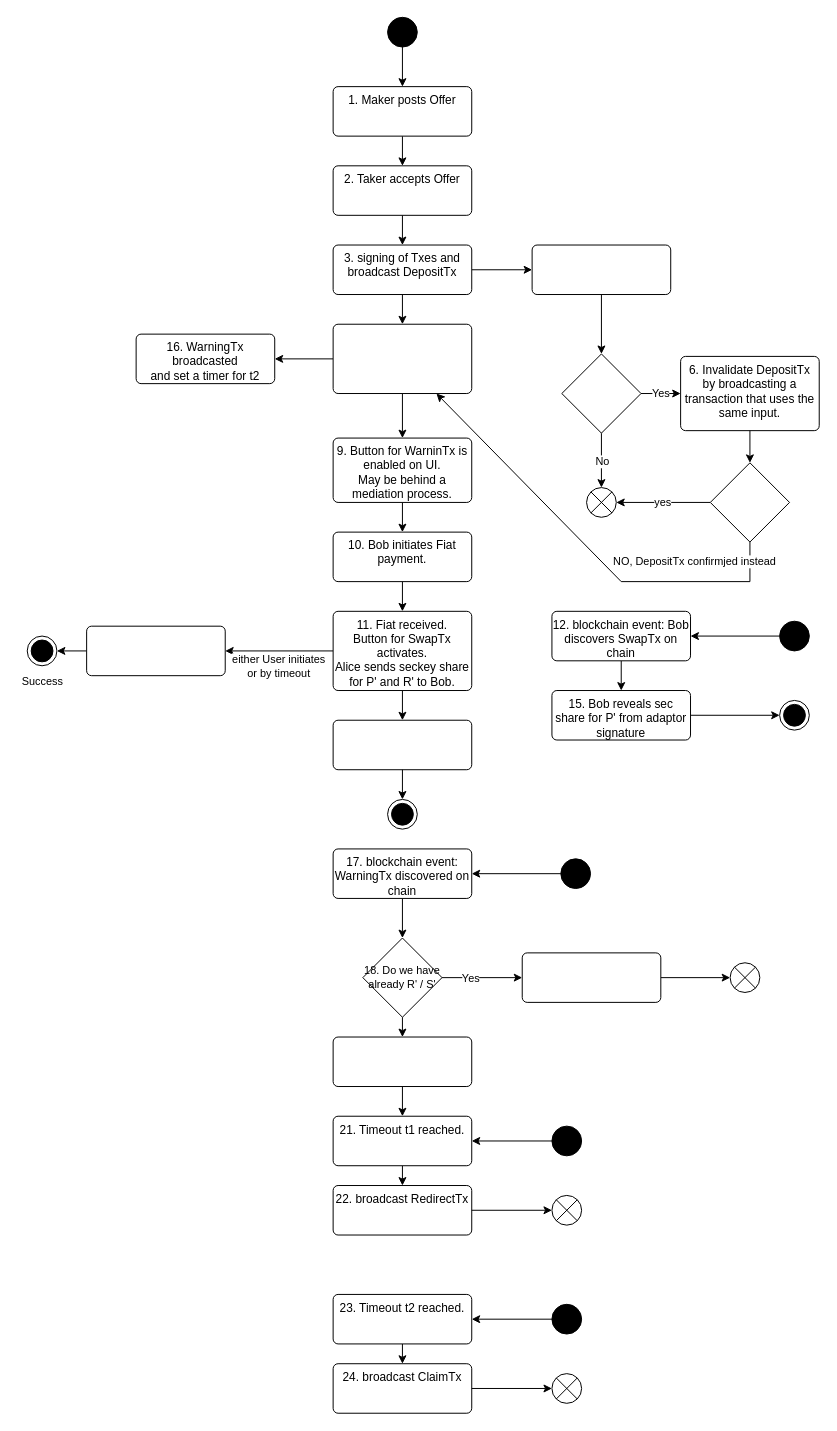
The diagram is 837 pixels wide and 1431 high, and some of its shapes have lost their labels. Here are the shapes that lost their labels. From the top down, the centre of each, then its label:
At (601,269): "4. signing Timeout.".
At (402,358): "8. DepositTx confirmed on chain Listen for onchain event WarningTx and SwapTx".
At (601,393): "5. signature for DepositTx already transmitted?".
At (749,502): "7. Invalidation Tx confirmed?".
At (155,650): "13. SwapTx broadcasted".
At (402,744): "14. Bob sends seckey shares for Q' and S' to Alice.".
At (591,977): "19. Create a Tx to myself using from WarningTx output".
At (402,1061): "20. Set a timer and wait until t1 expires.".
